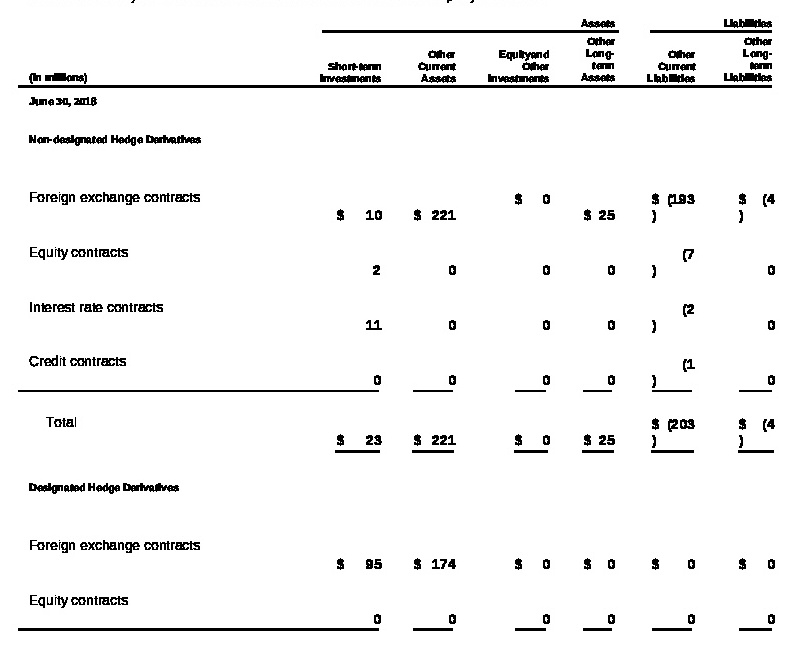table: (0, 0, 804, 653)
